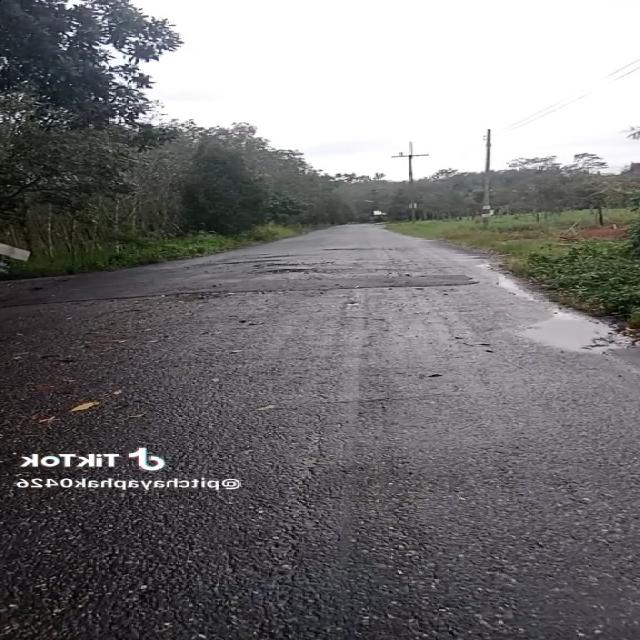Poth-hole: (211, 224, 337, 308)
